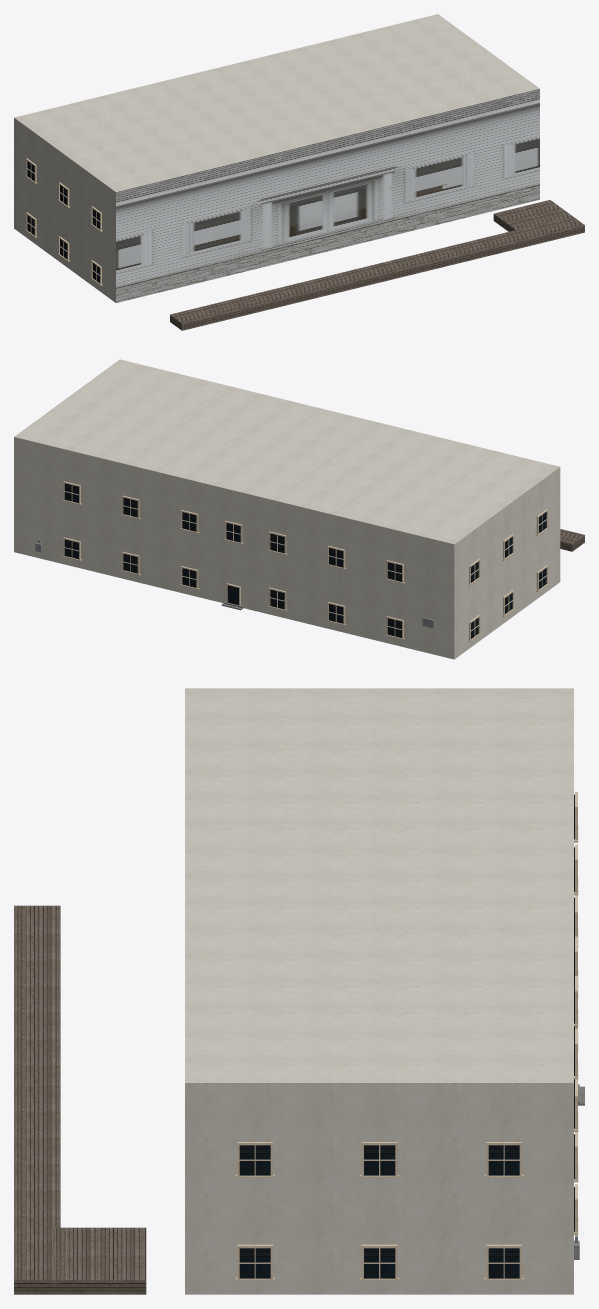
File: marina-clubhouse_lod0.gltf
The picture shows the model from 3 angles, top to bottom: view 1: azimuth 30°, elevation 25°; view 2: azimuth 150°, elevation 25°; view 3: azimuth 270°, elevation 25°; orthographic projection. The views are drawn at different scales.
Visible parts, largest first — view 1: marina-clubhouse_main, marina-clubhouse_front, marina-clubhouse__dock_pier_a, marina-clubhouse__dock_pier_b, marina-clubhouse__fuel_dock, marina-clubhouse_fen_04-limestone_0, marina-clubhouse_fen_07-glass-curtain-blue_1_t; view 2: marina-clubhouse_main, marina-clubhouse_fen_07-glass-curtain-blue_1_t, marina-clubhouse_fen_04-limestone_0, marina-clubhouse__dock_pier_a; view 3: marina-clubhouse_main, marina-clubhouse__dock_pier_b, marina-clubhouse__dock_pier_a, marina-clubhouse__fuel_dock, marina-clubhouse_fen_07-glass-curtain-blue_1_t, marina-clubhouse_fen_04-limestone_0.
Part boxes in pixels (box(x1,y1,x2,y2)): marina-clubhouse_main: box(14, 14, 539, 302); marina-clubhouse_front: box(116, 89, 539, 302); marina-clubhouse__dock_pier_a: box(170, 263, 393, 330); marina-clubhouse__dock_pier_b: box(373, 216, 584, 283); marina-clubhouse__fuel_dock: box(493, 200, 572, 231); marina-clubhouse_fen_04-limestone_0: box(25, 158, 102, 285); marina-clubhouse_fen_07-glass-curtain-blue_1_t: box(27, 161, 99, 283); marina-clubhouse_main: box(14, 359, 560, 659); marina-clubhouse_fen_07-glass-curtain-blue_1_t: box(64, 483, 546, 638); marina-clubhouse_fen_04-limestone_0: box(62, 481, 548, 641); marina-clubhouse__dock_pier_a: box(560, 529, 584, 551); marina-clubhouse_main: box(185, 688, 573, 1294); marina-clubhouse__dock_pier_b: box(14, 1083, 60, 1294); marina-clubhouse__dock_pier_a: box(14, 905, 60, 1082); marina-clubhouse__fuel_dock: box(53, 1227, 146, 1294); marina-clubhouse_fen_07-glass-curtain-blue_1_t: box(239, 794, 574, 1278); marina-clubhouse_fen_04-limestone_0: box(235, 792, 578, 1280).
Size of the model in its own units: 60.55 by 15.02 by 36.7.
